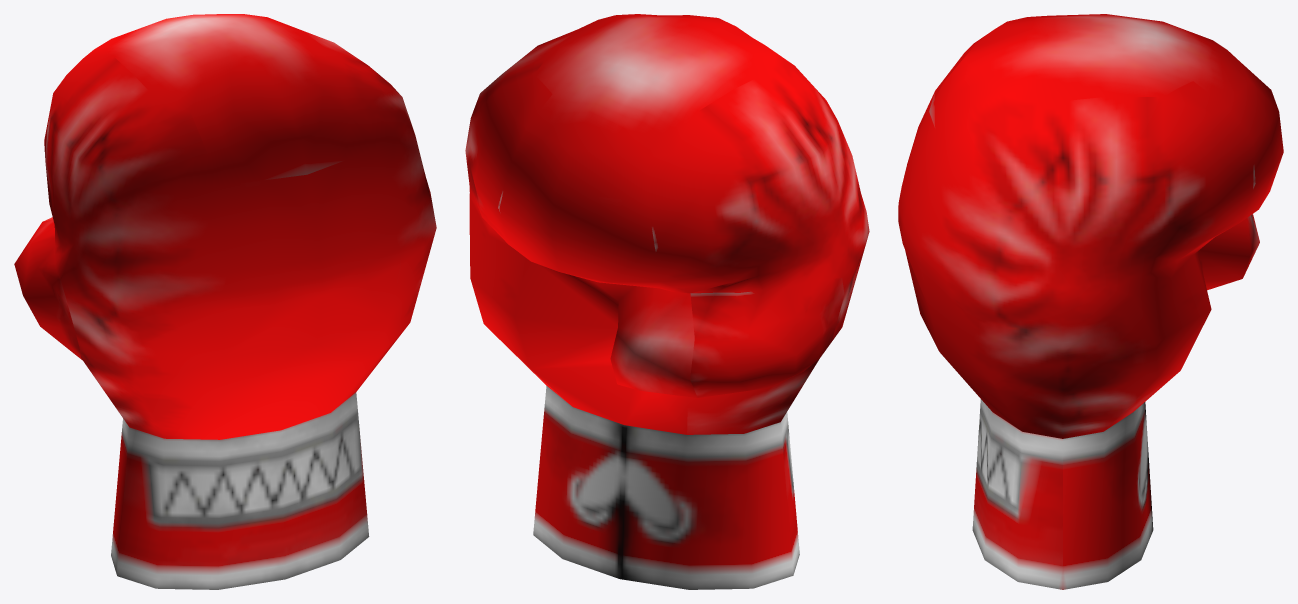
Rendered from icon.ico.obj.
3 renders of one model, left to right at view 1: azimuth 30°, elevation 25°; view 2: azimuth 150°, elevation 25°; view 3: azimuth 270°, elevation 25°, orthographic. The views are drawn at different scales.
Size of the model in its own units: 3.45 by 4.65 by 3.28.
Materials: 1 (1 with a texture image).
